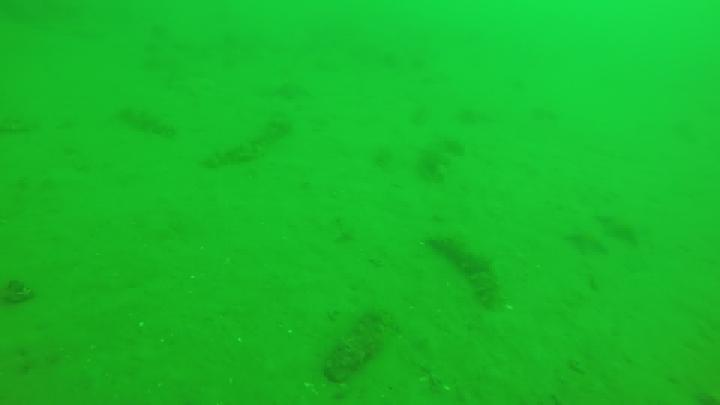holothurian: (424, 229, 499, 309), (207, 116, 299, 164), (117, 103, 178, 142)
